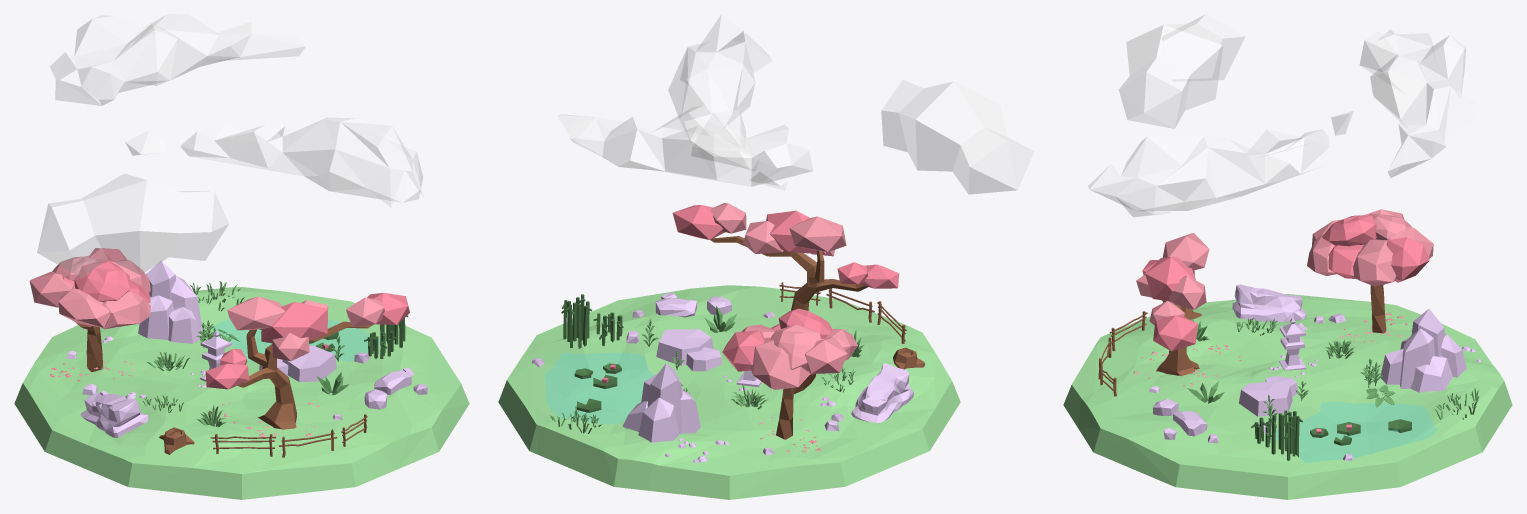
The model's file is cherry.gltf.
The picture shows the model from 3 angles, left to right: view 1: azimuth 30°, elevation 25°; view 2: azimuth 150°, elevation 25°; view 3: azimuth 270°, elevation 25°; orthographic projection. The views are drawn at different scales.
Visible parts, largest first — view 1: SM_Base_Dirt_01, SM_Env_Generic_Cloud_01, SM_Env_Generic_Cloud_04, SM_Env_Generic_Cloud_02, SM_Env_Samurai_Tree_01, SM_Env_Generic_Rock_05, Object003, Object002, SM_Env_Rock_03, SM_Tile_Hex_Flat_Water_01, GeoSphere008, Object001 (+11 smaller); view 2: SM_Base_Dirt_01, SM_Env_Generic_Cloud_02, SM_Env_Generic_Cloud_01, SM_Env_Generic_Cloud_04, SM_Tile_Hex_Flat_Water_01, SM_Env_Generic_Rock_05, SM_Env_Samurai_Tree_01, Object003, SM_Env_Rock_03, SM_Env_Generic_Rock_03, Object002, Object001 (+8 smaller); view 3: SM_Base_Dirt_01, SM_Env_Generic_Cloud_04, SM_Env_Generic_Cloud_02, SM_Env_Generic_Cloud_01, SM_Tile_Hex_Flat_Water_01, SM_Env_Generic_Rock_05, SM_Env_Samurai_Tree_01, Object003, SM_Env_Rock_03, SM_Env_Generic_Rock_03, Object001, GeoSphere011 (+10 smaller).
Boxes of the visible parts, bbox=[...] form: SM_Base_Dirt_01: bbox=[14, 287, 469, 499]; SM_Env_Generic_Cloud_01: bbox=[37, 173, 228, 277]; SM_Env_Generic_Cloud_04: bbox=[125, 117, 423, 209]; SM_Env_Generic_Cloud_02: bbox=[50, 14, 305, 105]; SM_Env_Samurai_Tree_01: bbox=[205, 293, 409, 389]; SM_Env_Generic_Rock_05: bbox=[138, 260, 202, 343]; Object003: bbox=[227, 296, 384, 361]; Object002: bbox=[237, 321, 373, 429]; SM_Env_Rock_03: bbox=[80, 393, 148, 437]; SM_Tile_Hex_Flat_Water_01: bbox=[211, 319, 379, 362]; GeoSphere008: bbox=[74, 261, 130, 301]; Object001: bbox=[66, 350, 427, 419]; SM_Base_Dirt_01: bbox=[498, 285, 960, 499]; SM_Env_Generic_Cloud_02: bbox=[557, 105, 813, 186]; SM_Env_Generic_Cloud_01: bbox=[881, 80, 1034, 194]; SM_Env_Generic_Cloud_04: bbox=[668, 14, 787, 190]; SM_Tile_Hex_Flat_Water_01: bbox=[545, 353, 653, 424]; SM_Env_Generic_Rock_05: bbox=[622, 363, 700, 442]; SM_Env_Samurai_Tree_01: bbox=[672, 205, 899, 288]; Object003: bbox=[711, 203, 846, 256]; SM_Env_Rock_03: bbox=[851, 363, 913, 422]; SM_Env_Generic_Rock_03: bbox=[656, 329, 721, 371]; Object002: bbox=[710, 236, 867, 310]; Object001: bbox=[532, 292, 843, 454]; SM_Base_Dirt_01: bbox=[1063, 294, 1512, 499]; SM_Env_Generic_Cloud_04: bbox=[1088, 111, 1353, 216]; SM_Env_Generic_Cloud_02: bbox=[1360, 29, 1476, 177]; SM_Env_Generic_Cloud_01: bbox=[1119, 14, 1245, 128]; SM_Tile_Hex_Flat_Water_01: bbox=[1276, 401, 1437, 462]; SM_Env_Generic_Rock_05: bbox=[1380, 309, 1466, 392]; SM_Env_Samurai_Tree_01: bbox=[1142, 257, 1197, 351]; Object003: bbox=[1136, 233, 1209, 325]; SM_Env_Rock_03: bbox=[1232, 284, 1306, 321]; SM_Env_Generic_Rock_03: bbox=[1239, 376, 1297, 416]; Object001: bbox=[1149, 313, 1412, 460]; GeoSphere011: bbox=[1351, 239, 1396, 286].
Size of the model in its own units: 559 by 414 by 499.
